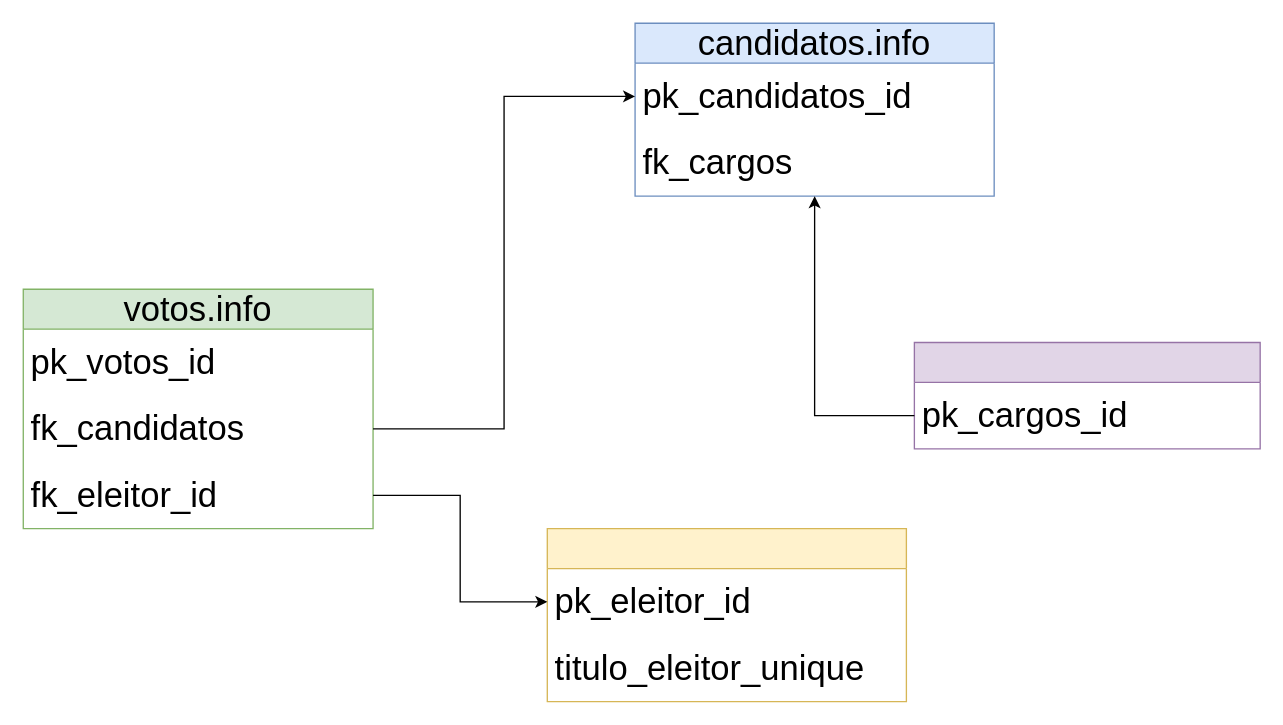
Some shapes in this 1283 by 725 pixel diagram are drawn without their labels. The box of each missing label's shape, as (x1, y1, x2, y2) in pixels:
cargos.info: (913, 341, 1260, 449)
eleitor.info: (546, 527, 906, 702)
